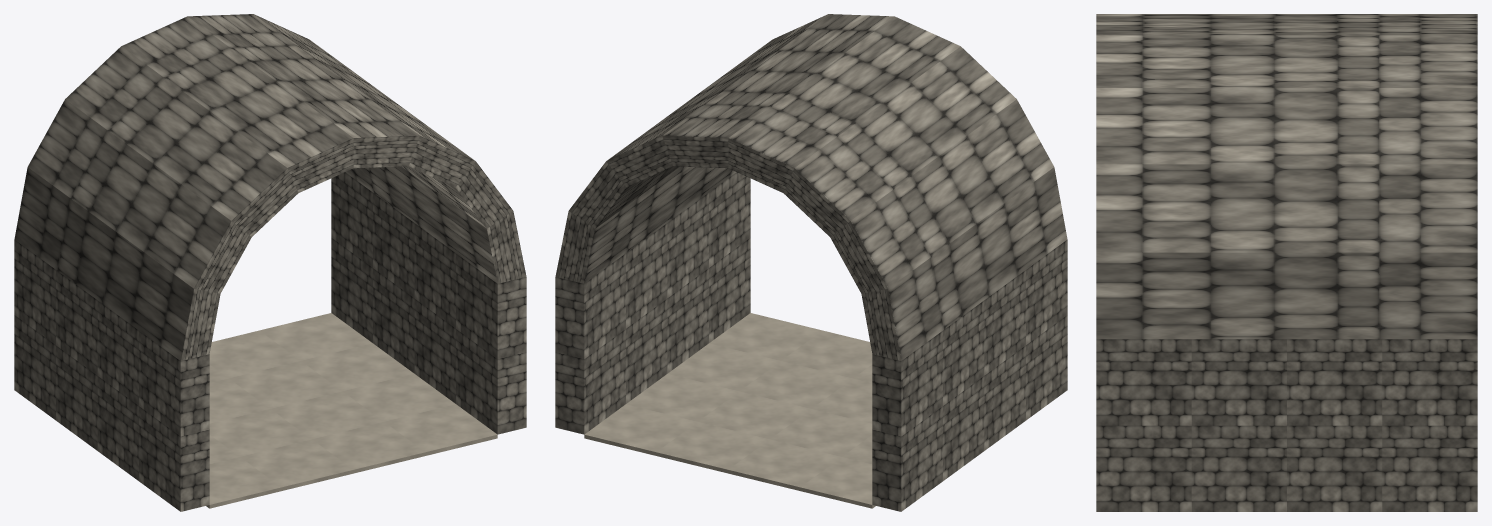
File: Dungeon_Vault_1_LOD1.gltf
3 views of the same model, side by side, from view 1: azimuth 30°, elevation 25°; view 2: azimuth 150°, elevation 25°; view 3: azimuth 270°, elevation 25° (orthographic). The views are drawn at different scales.
Parts seen in each view (by area): view 1: Dungeon_Vault_1_LOD1; view 2: Dungeon_Vault_1_LOD1; view 3: Dungeon_Vault_1_LOD1.
Part boxes in pixels (<box>): Dungeon_Vault_1_LOD1: <box>14,14,526,511</box>; Dungeon_Vault_1_LOD1: <box>555,14,1067,511</box>; Dungeon_Vault_1_LOD1: <box>1096,14,1477,511</box>.
Bounding box in the file's own units: 4.8 × 4.45 × 4.
Materials: 3 (3 with a texture image).
